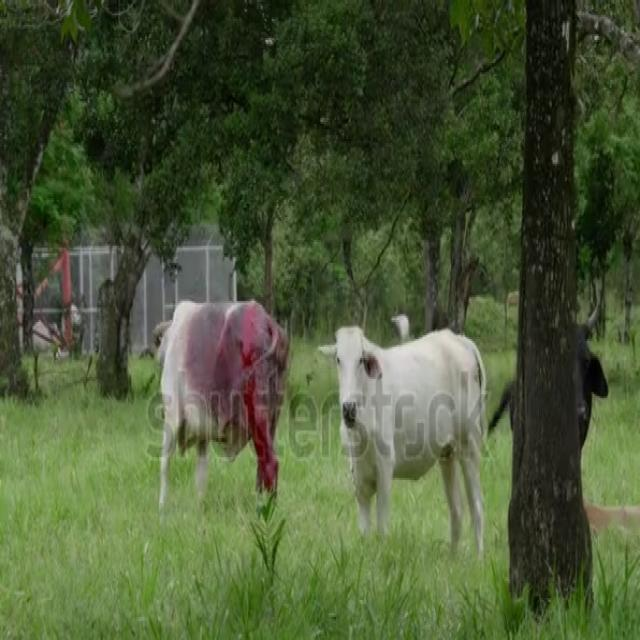injured-animals: (148, 293, 292, 522)
normal_animals: (316, 316, 490, 562)
